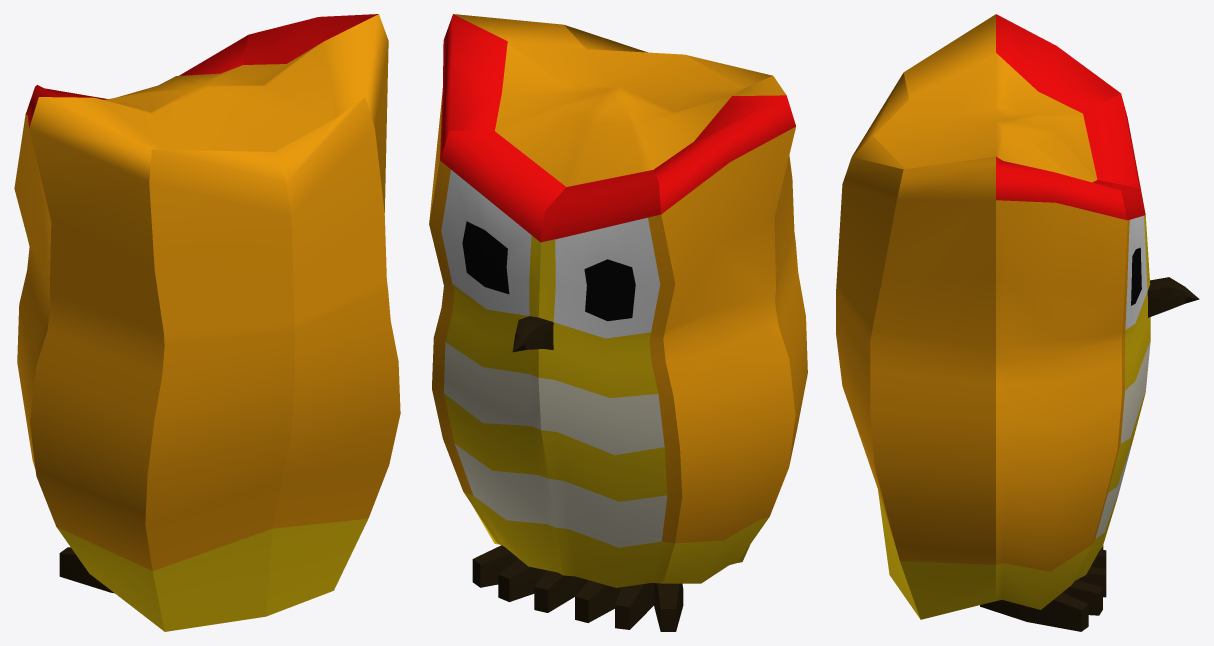
Rendered from buba.fbx.
3 renders of one model, left to right at view 1: azimuth 30°, elevation 25°; view 2: azimuth 150°, elevation 25°; view 3: azimuth 270°, elevation 25°, orthographic. The views are drawn at different scales.
Visible parts, largest first — view 1: Buba, pCube41; view 2: Buba, pCube41 (×2), pCube39 (×2), pCube40 (×2), beakTop; view 3: Buba, pCube40, pCube39, beakTop, beackBottom.
Boxes of the visible parts, <box> form: Buba: <box>14,14,400,631</box>; pCube41: <box>59,547,114,593</box>; Buba: <box>429,14,807,587</box>; pCube41 (×2): <box>534,570,683,631</box>; pCube39 (×2): <box>498,559,654,629</box>; pCube40 (×2): <box>472,545,621,622</box>; beakTop: <box>512,316,553,351</box>; Buba: <box>836,14,1150,619</box>; pCube40: <box>980,592,1088,631</box>; pCube39: <box>1063,580,1102,615</box>; beakTop: <box>1147,277,1199,299</box>; beackBottom: <box>1148,297,1198,317</box>.
Bounding box in the file's own units: 2.25 × 3.17 × 2.12.
